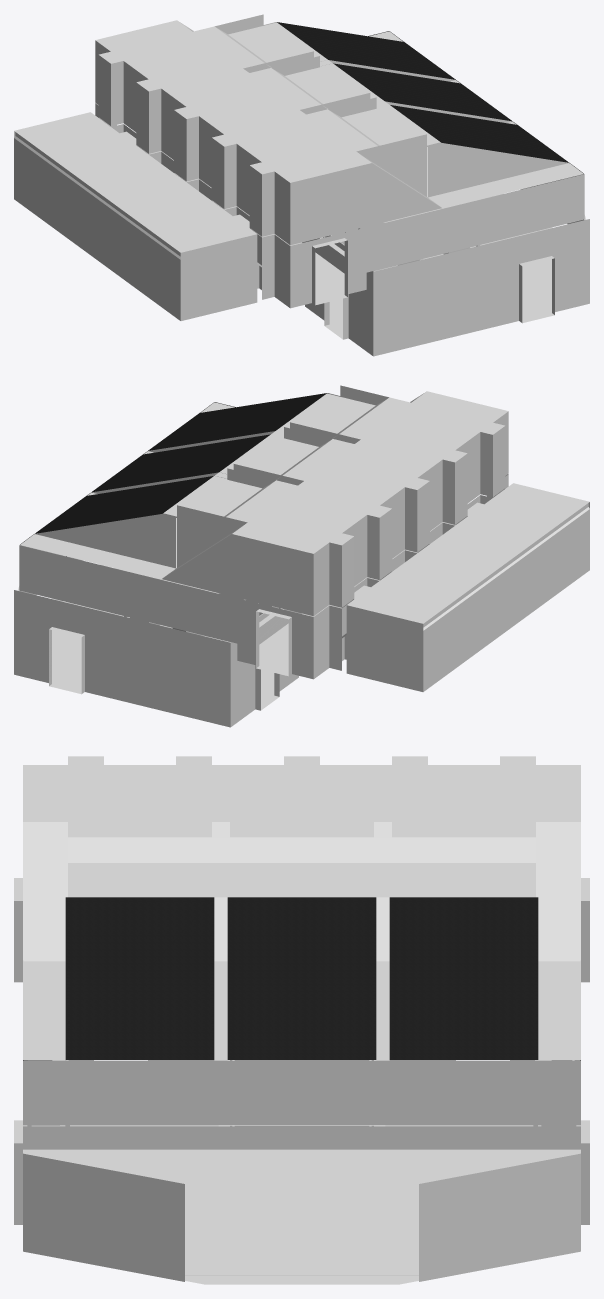
File: Room2_Closets.fbx
The picture shows the model from 3 angles, top to bottom: view 1: azimuth 30°, elevation 25°; view 2: azimuth 150°, elevation 25°; view 3: azimuth 270°, elevation 25°; orthographic projection. The views are drawn at different scales.
Visible parts, largest first — view 1: Room2_Closets; view 2: Room2_Closets; view 3: Room2_Closets.
Boxes of the visible parts, x1,y1,x2,y2 form: Room2_Closets: (14, 14, 589, 356); Room2_Closets: (14, 385, 589, 727); Room2_Closets: (14, 756, 589, 1284).
Bounding box in the file's own units: 26.08 × 10.89 × 20.48.
